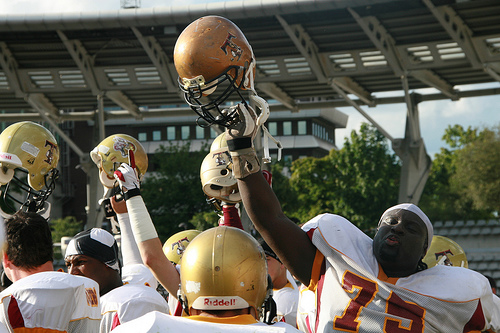helmet: (180, 234, 269, 311), (173, 17, 258, 95), (2, 127, 61, 186), (93, 136, 150, 179)
